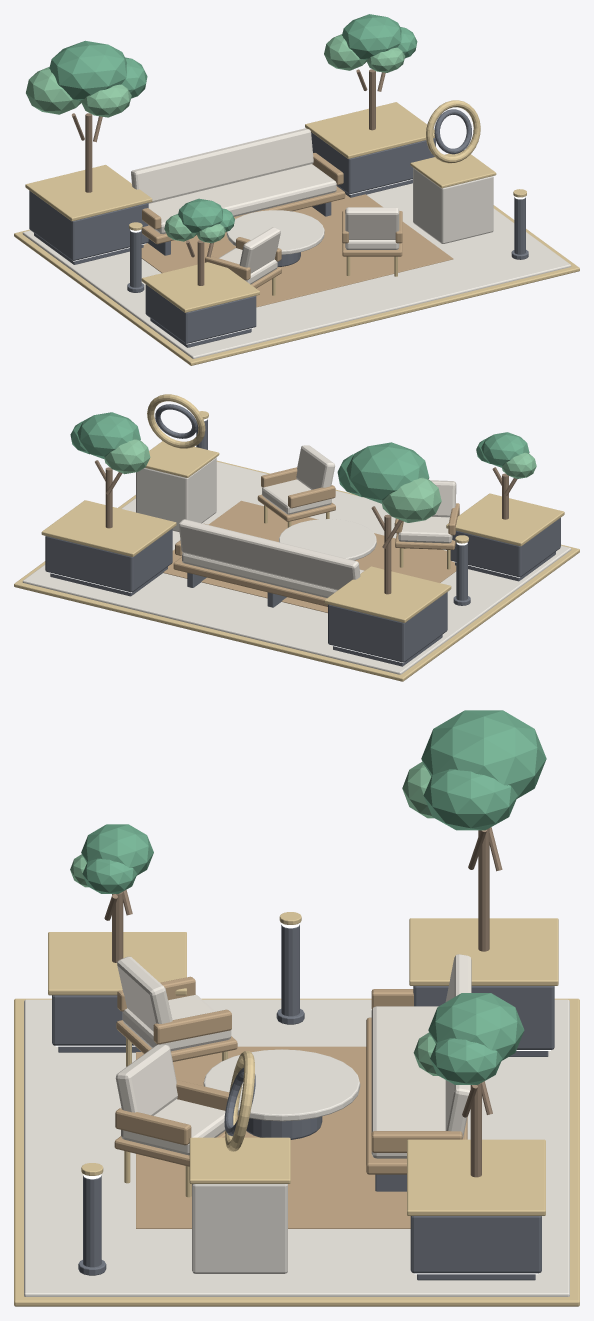
Rendered from landscape_lounge_v27_5.glb.
3 renders of one model, top to bottom at view 1: azimuth 30°, elevation 25°; view 2: azimuth 150°, elevation 25°; view 3: azimuth 270°, elevation 25°, orthographic. The views are drawn at different scales.
Parts seen in each view (by area): view 1: V275Mat_TravertineDeck, V275Mat_ChampagneBrass, V275Mat_PlanterSlate, V275Mat_SandLinenFabric, V275Mat_WarmOakWood, V275Mat_BotanicalDeep, V275Mat_BotanicalFresh, V275Mat_BarkWood; view 2: V275Mat_TravertineDeck, V275Mat_ChampagneBrass, V275Mat_PlanterSlate, V275Mat_SandLinenFabric, V275Mat_WarmOakWood, V275Mat_BotanicalDeep, V275Mat_BotanicalFresh, V275Mat_BarkWood; view 3: V275Mat_TravertineDeck, V275Mat_ChampagneBrass, V275Mat_WarmOakWood, V275Mat_PlanterSlate, V275Mat_BotanicalDeep, V275Mat_SandLinenFabric, V275Mat_BarkWood, V275Mat_BotanicalFresh.
Part boxes in pixels (x1,y1,x2,y2): V275Mat_TravertineDeck: (22,167,571,358); V275Mat_ChampagneBrass: (14,100,579,365); V275Mat_PlanterSlate: (29,109,528,347); V275Mat_SandLinenFabric: (131,128,399,284); V275Mat_WarmOakWood: (141,153,453,307); V275Mat_BotanicalDeep: (49,14,417,233); V275Mat_BotanicalFresh: (26,34,405,243); V275Mat_BarkWood: (71,69,385,285); V275Mat_TravertineDeck: (22,457,571,674); V275Mat_ChampagneBrass: (14,394,579,681); V275Mat_PlanterSlate: (45,404,560,666); V275Mat_SandLinenFabric: (179,445,456,597); V275Mat_WarmOakWood: (163,467,459,612); V275Mat_BotanicalDeep: (70,412,529,503); V275Mat_BotanicalFresh: (104,439,536,522); V275Mat_BarkWood: (95,460,517,594); V275Mat_TravertineDeck: (24,999,569,1296); V275Mat_ChampagneBrass: (14,912,579,1306); V275Mat_WarmOakWood: (114,976,467,1228); V275Mat_PlanterSlate: (52,924,554,1280); V275Mat_BotanicalDeep: (81,710,546,1084); V275Mat_SandLinenFabric: (115,954,471,1158); V275Mat_BarkWood: (104,827,502,1177); V275Mat_BotanicalFresh: (70,762,537,1075).
Size of the model in its own units: 5.81 by 2.82 by 4.48.
